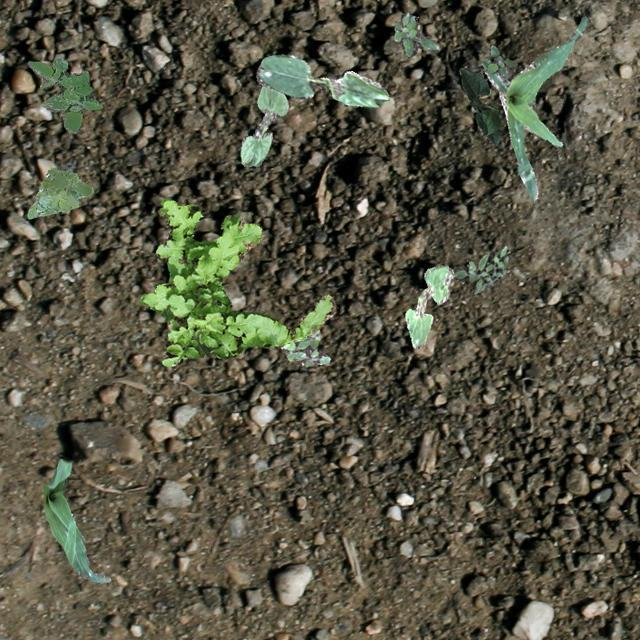crop: (479, 16, 586, 200), (42, 458, 110, 582), (256, 54, 388, 106), (404, 264, 452, 348), (240, 84, 288, 165), (458, 66, 500, 144)
weed: (138, 198, 336, 366), (27, 56, 102, 132), (27, 166, 92, 218), (452, 244, 508, 294), (392, 12, 438, 56), (280, 328, 328, 366), (486, 44, 516, 78)
